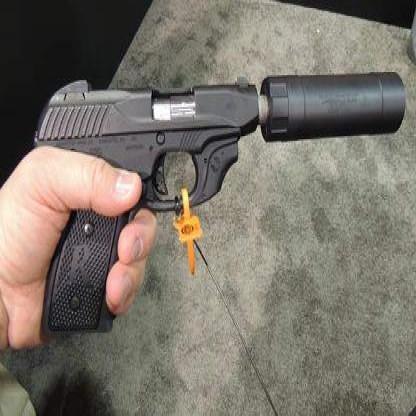pistol: (27, 75, 264, 331)
